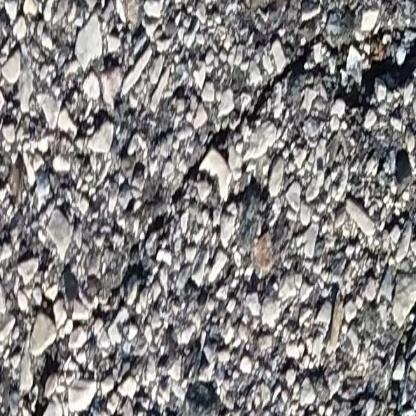Cracks: (140, 18, 416, 250), (269, 197, 416, 416), (62, 257, 154, 323), (6, 349, 79, 416), (130, 385, 225, 416), (104, 406, 127, 416)
